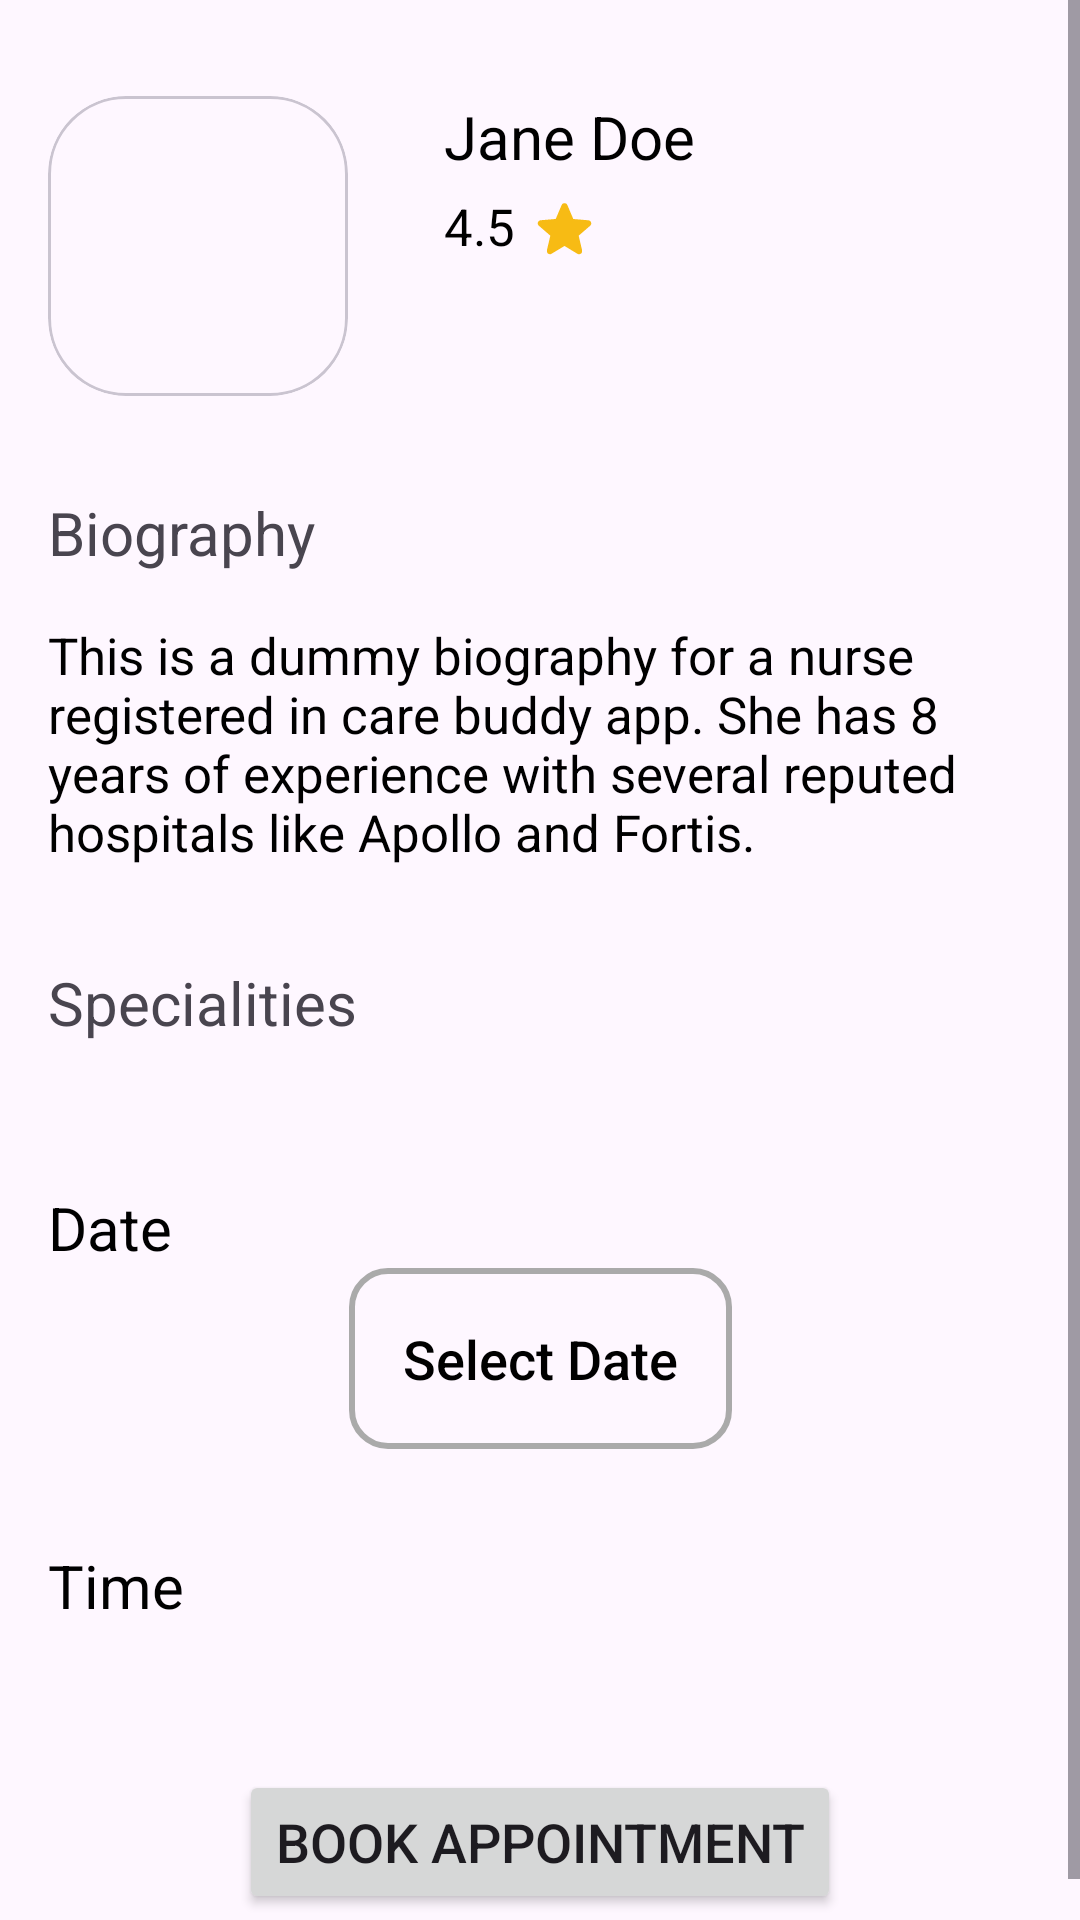

Icon bounding boxes for this 1080w x 1920h phone screenshot, format [x1=x1, y1=y1, x2=x2, y2=y2]:
rating: [x1=537, y1=203, x2=592, y2=255]
